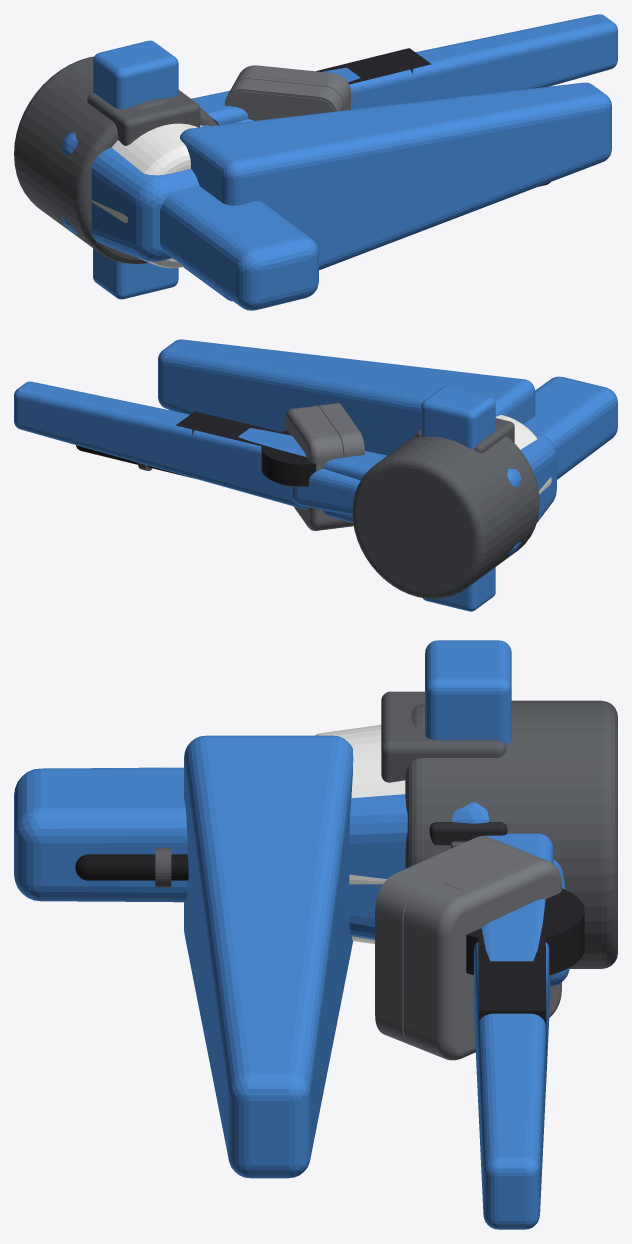
The model's file is arm.glb.
The picture shows the model from 3 angles, top to bottom: view 1: azimuth 30°, elevation 25°; view 2: azimuth 150°, elevation 25°; view 3: azimuth 270°, elevation 25°; orthographic projection. The views are drawn at different scales.
Visible parts, largest first — view 1: b3, b2, b4, b7, b1, b5; view 2: b3, b4, b7, b2, b5, b1; view 3: b3, b7, b2, b4, b5, b1.
Part boxes in pixels (<box>): b3: <box>14,56,611,301</box>; b2: <box>87,90,318,310</box>; b4: <box>191,14,617,124</box>; b7: <box>93,40,350,299</box>; b1: <box>91,123,202,268</box>; b5: <box>235,48,431,123</box>; b3: <box>158,339,556,598</box>; b4: <box>14,381,387,522</box>; b7: <box>284,386,495,611</box>; b2: <box>416,376,617,479</box>; b5: <box>176,411,360,515</box>; b1: <box>495,415,551,494</box>; b3: <box>184,700,617,1178</box>; b7: <box>375,640,561,1060</box>; b2: <box>14,691,506,902</box>; b4: <box>474,833,553,1229</box>; b5: <box>466,859,584,1080</box>; b1: <box>315,725,405,943</box>.
Bounding box in the file's own units: 0.2359 × 0.0917 × 0.1432.
